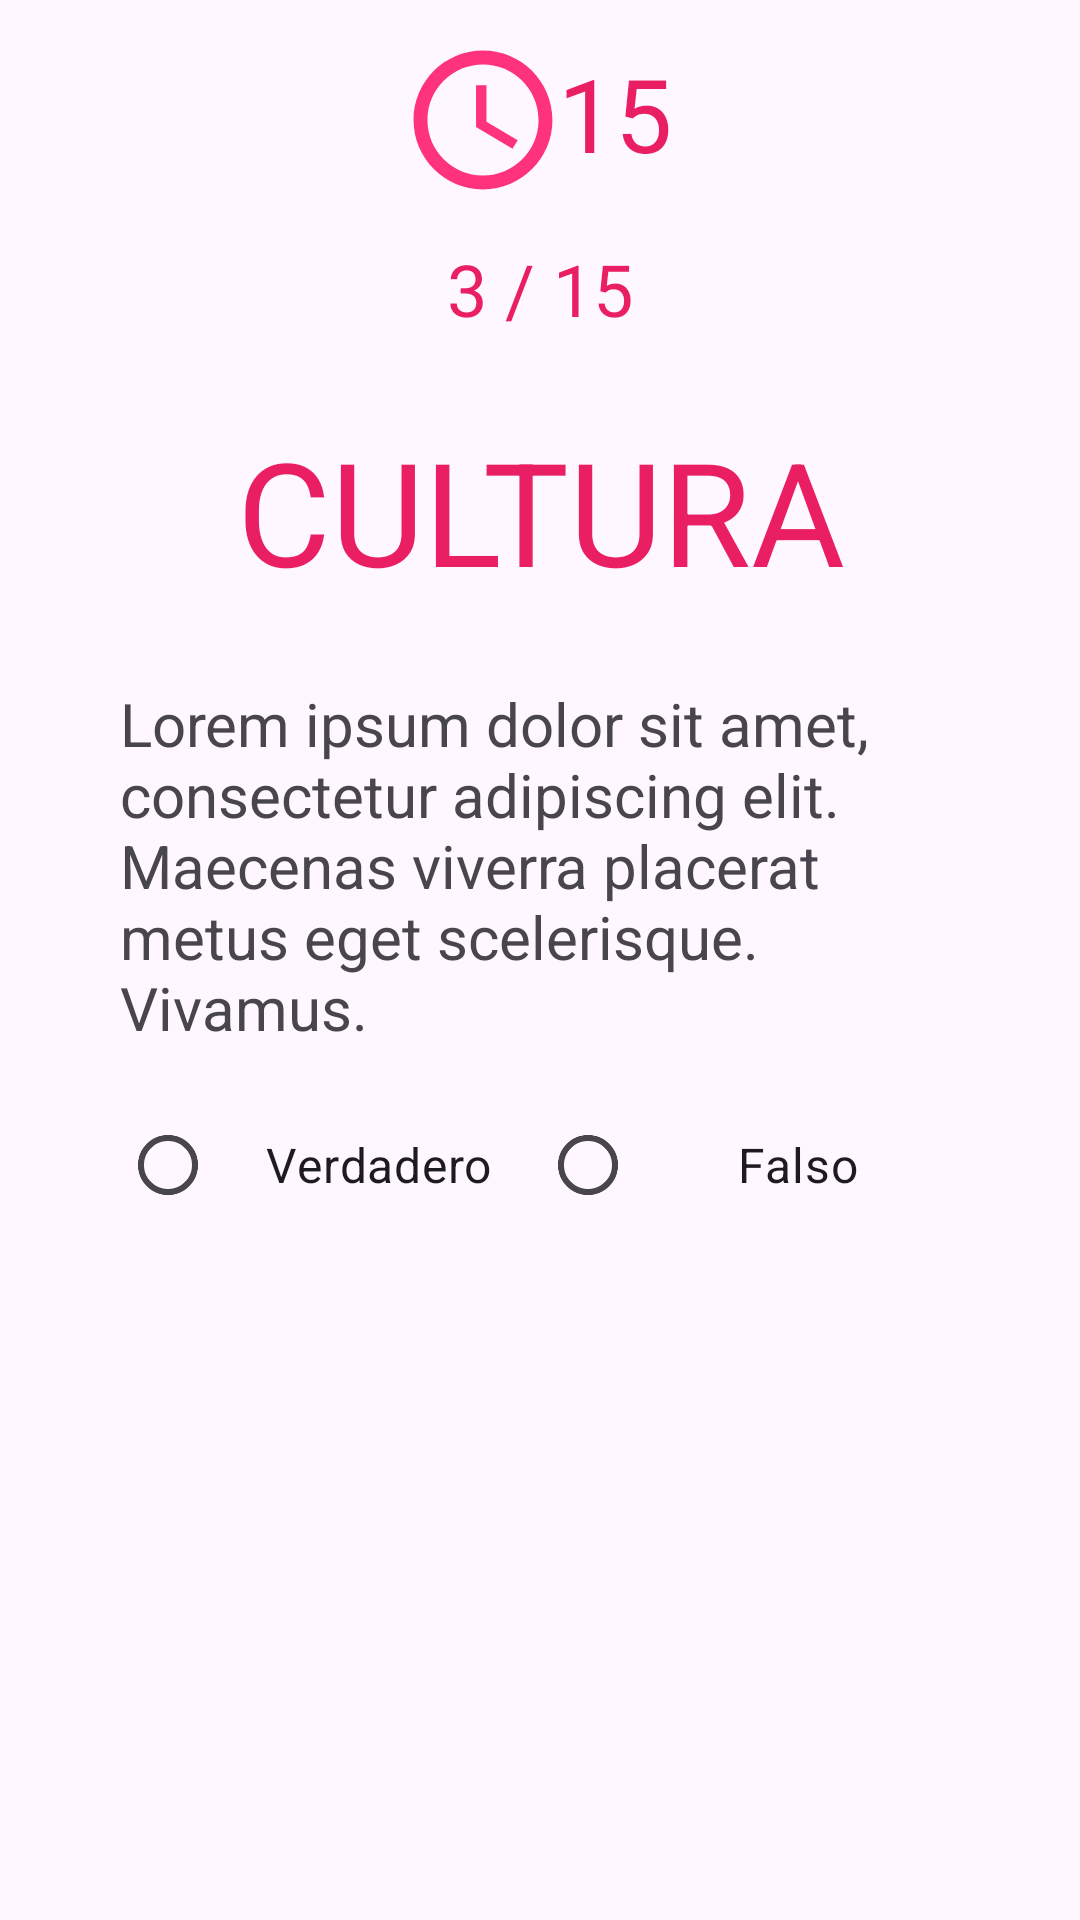

Icon click points for this 1080px x 1920px phone screenshot, format (x,y):
timer: (483,120)
